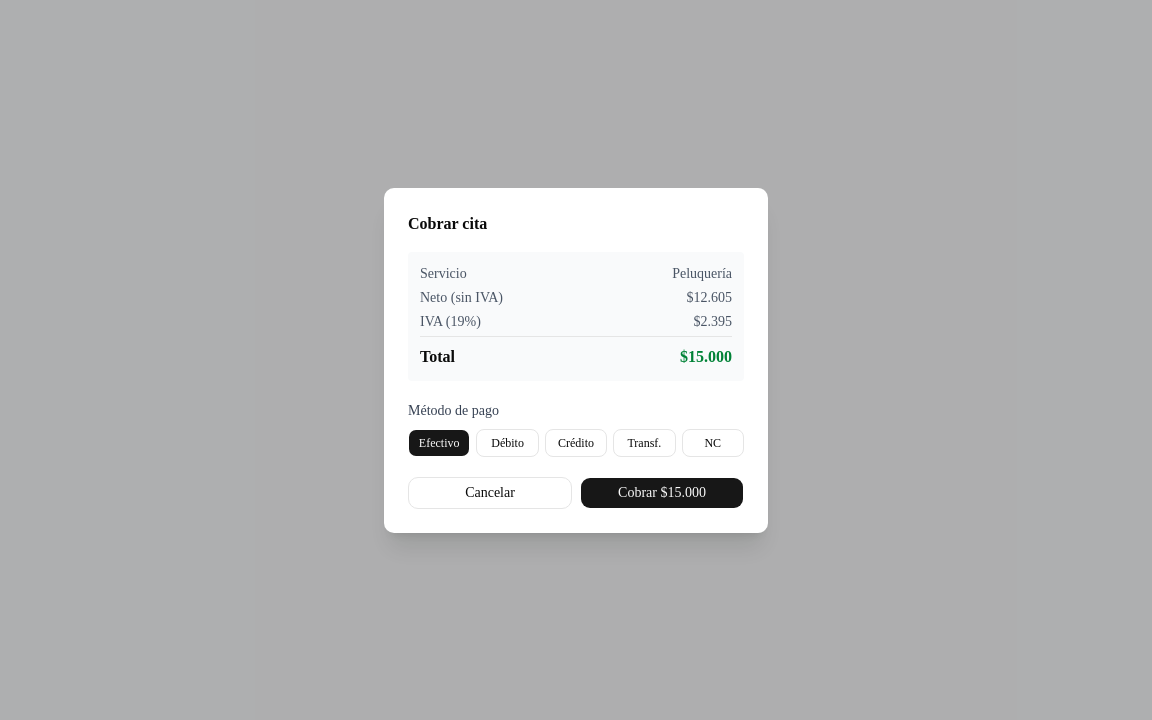
Test: ModalCobroCita (COB-XX) › COB-06: NC con monto menor al total → muestra la diferencia y exige método para el resto
Click the button "NC" at coordinates (713, 442), box [682, 428, 744, 456]
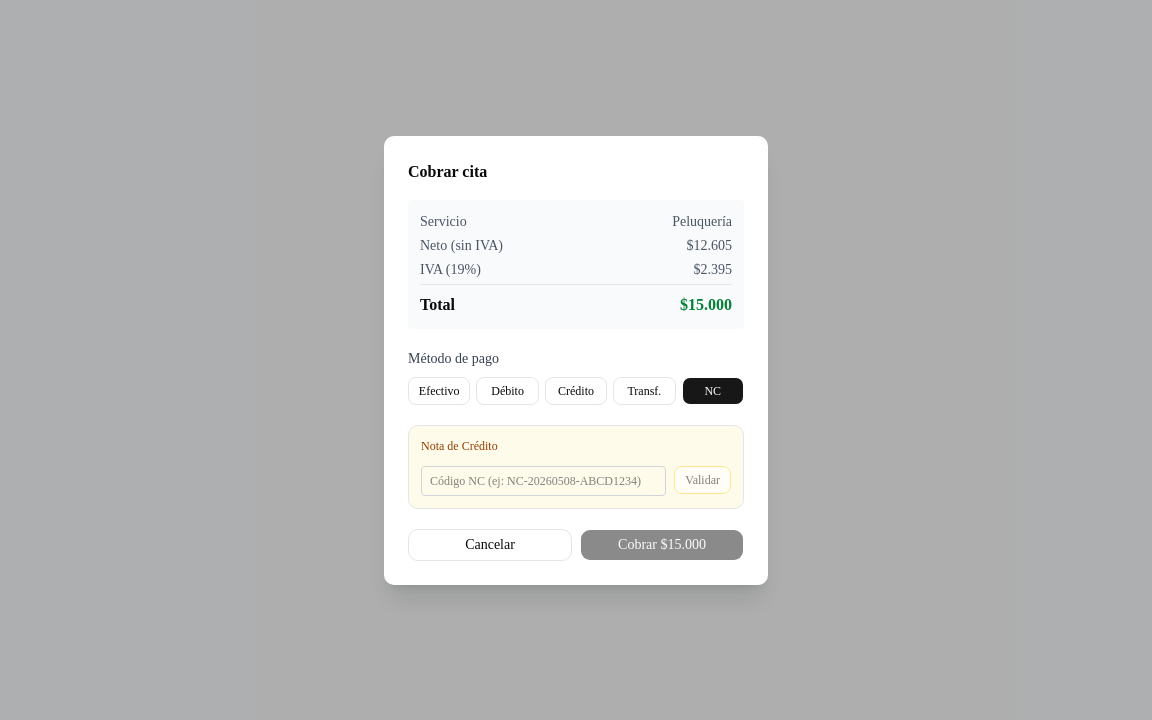
Type "NC-PAR" into the field with placeholder "Código NC (ej: NC-20260508-ABCD1234)" at coordinates (544, 480), box [421, 466, 666, 496]
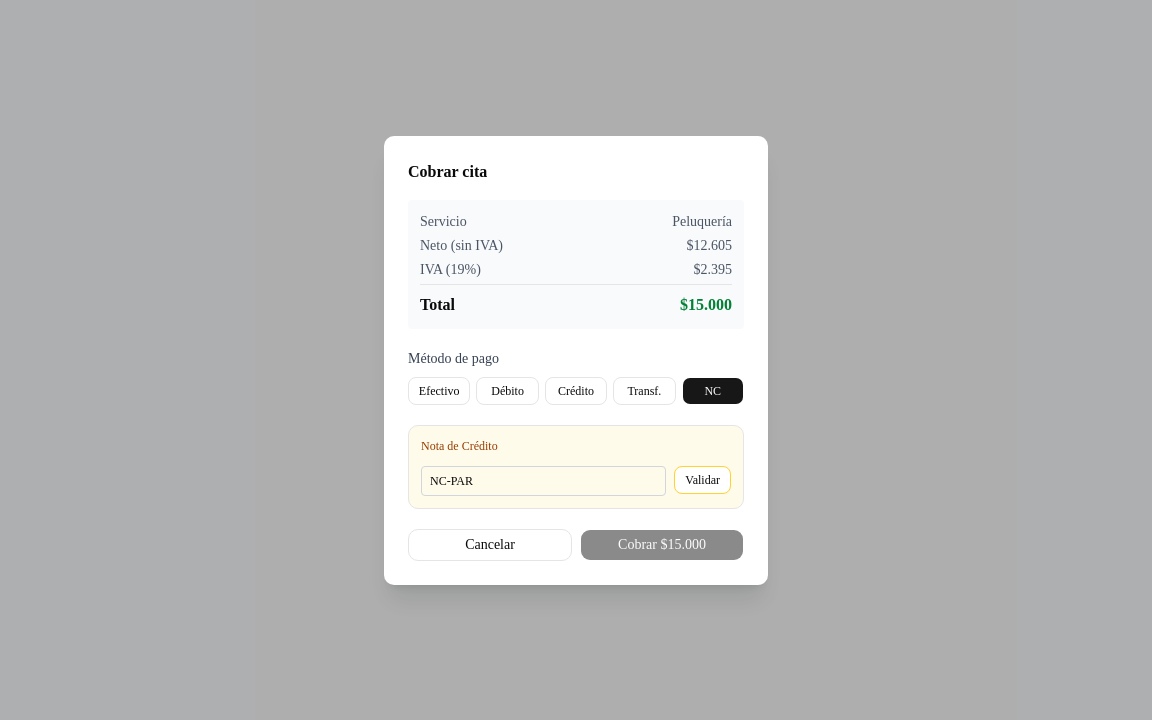
Click the button "Validar" at coordinates (703, 480), box [674, 466, 731, 494]
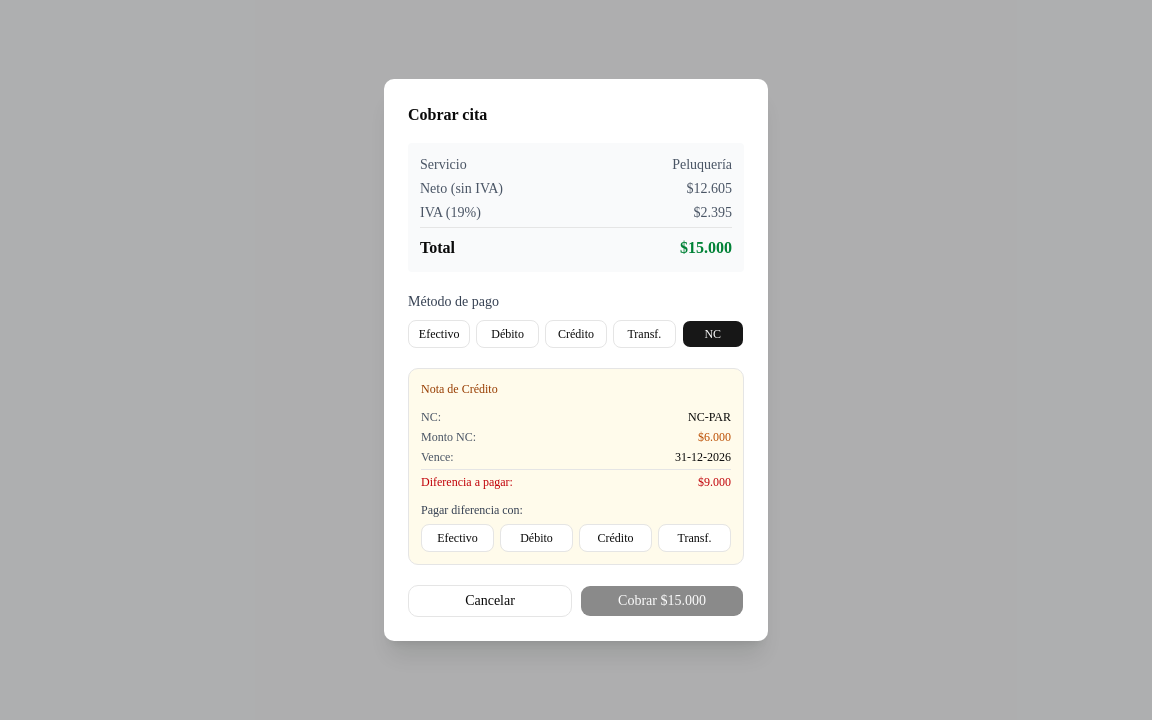
Result: the text "$6.000" is shown at [698, 429, 731, 445]
Result: the text "Diferencia a pagar:" is shown at [421, 474, 513, 490]
Result: the text "$9.000" is shown at [698, 474, 731, 490]
